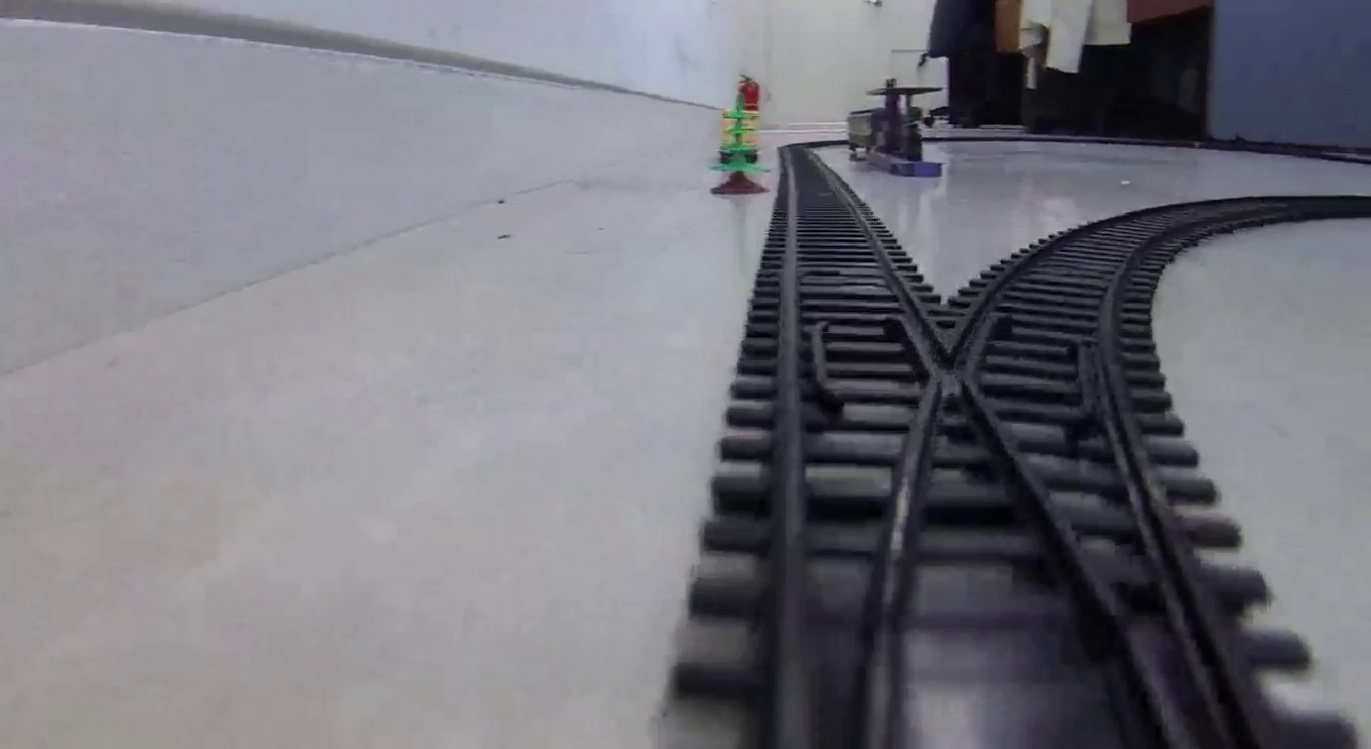tree: (709, 94, 773, 195)
